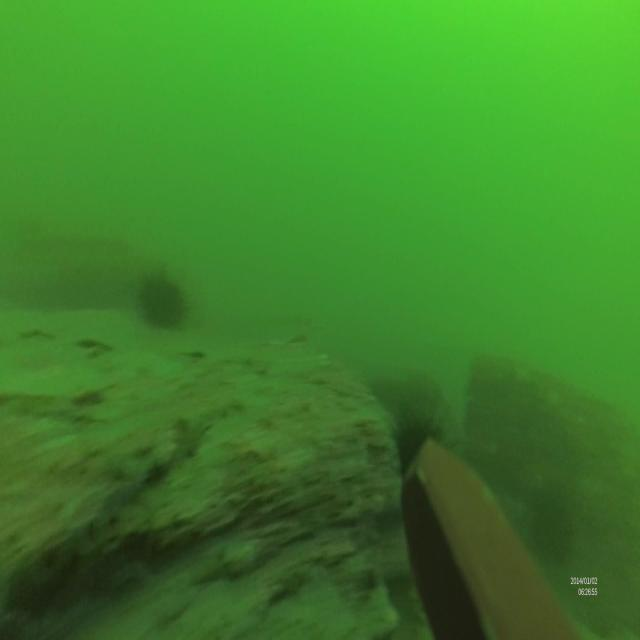echinus: (393, 412, 451, 488), (135, 269, 185, 328)
